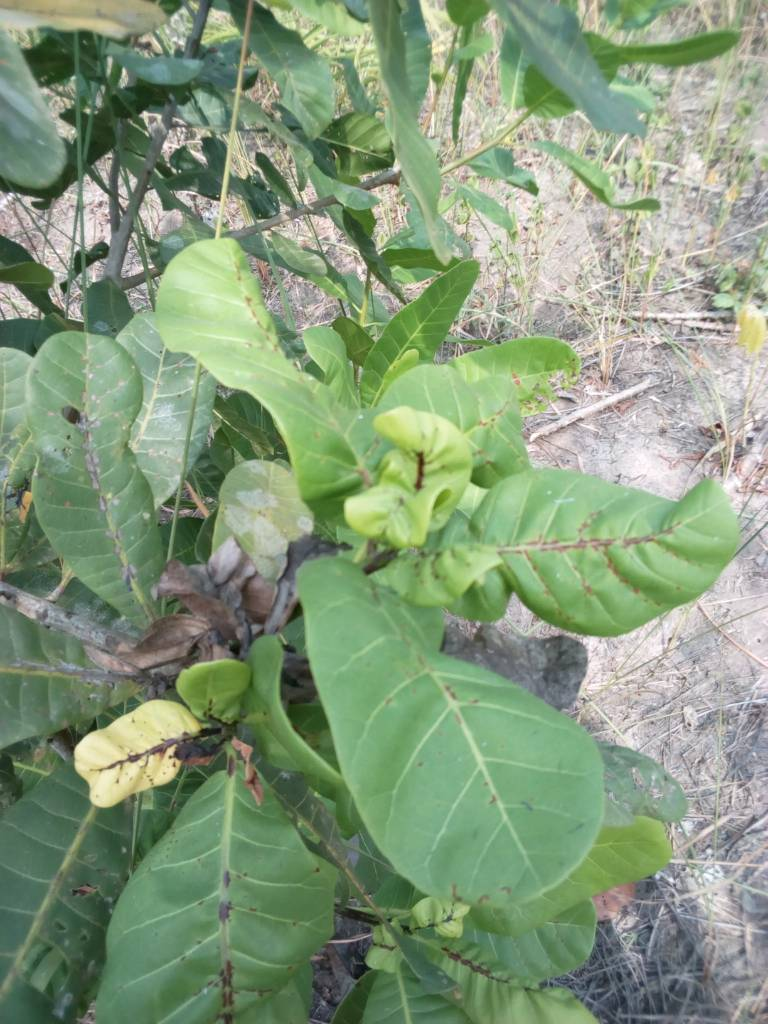Anthracnose: (130, 767, 333, 1022), (5, 732, 168, 1016), (475, 467, 743, 636)
